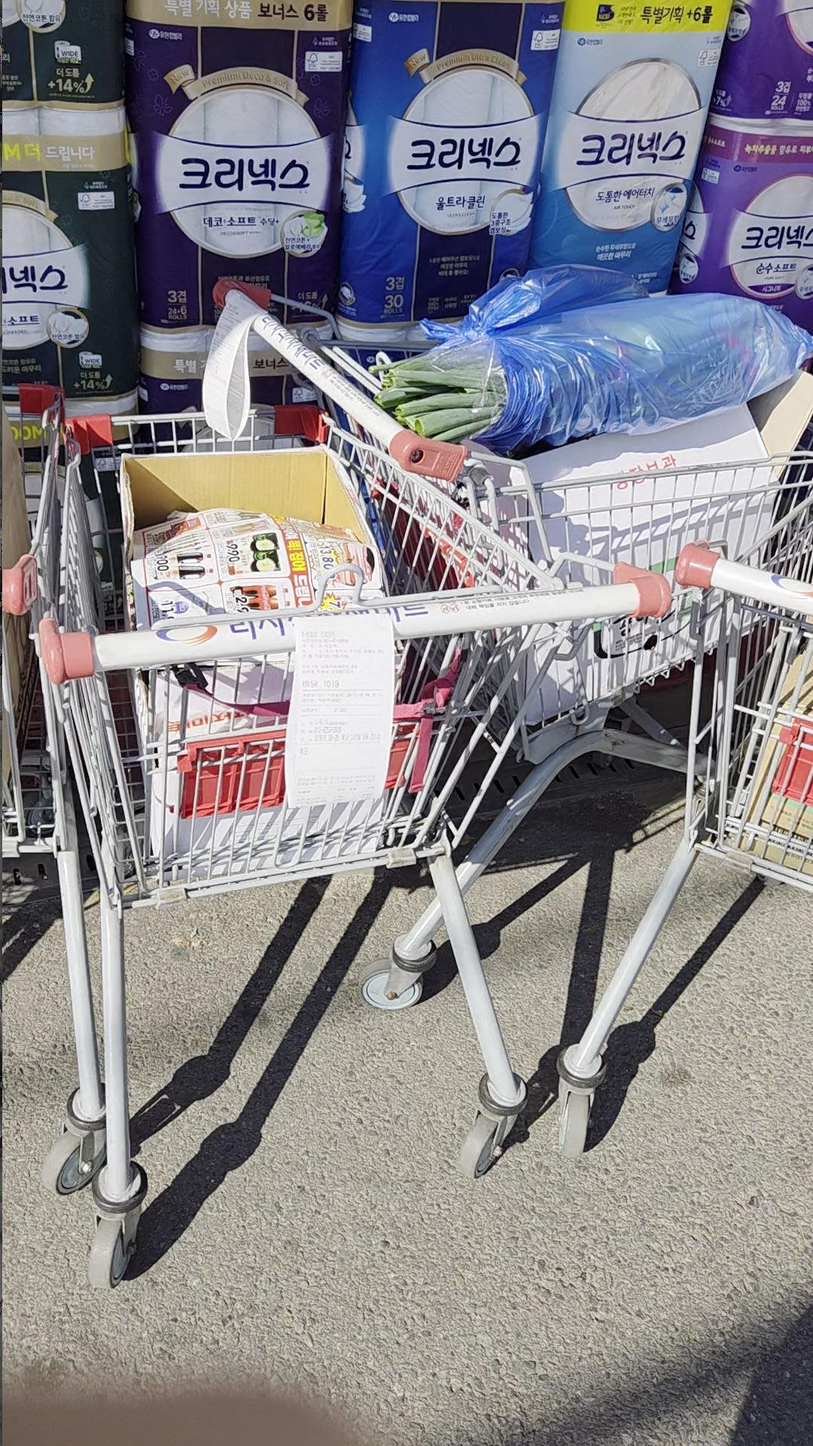fully_cart: (1, 386, 632, 1235), (187, 280, 775, 1013)
